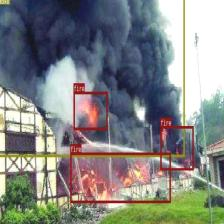fire: (69, 152, 170, 202), (160, 126, 193, 170), (73, 91, 108, 129)
smoke: (0, 0, 184, 156)
